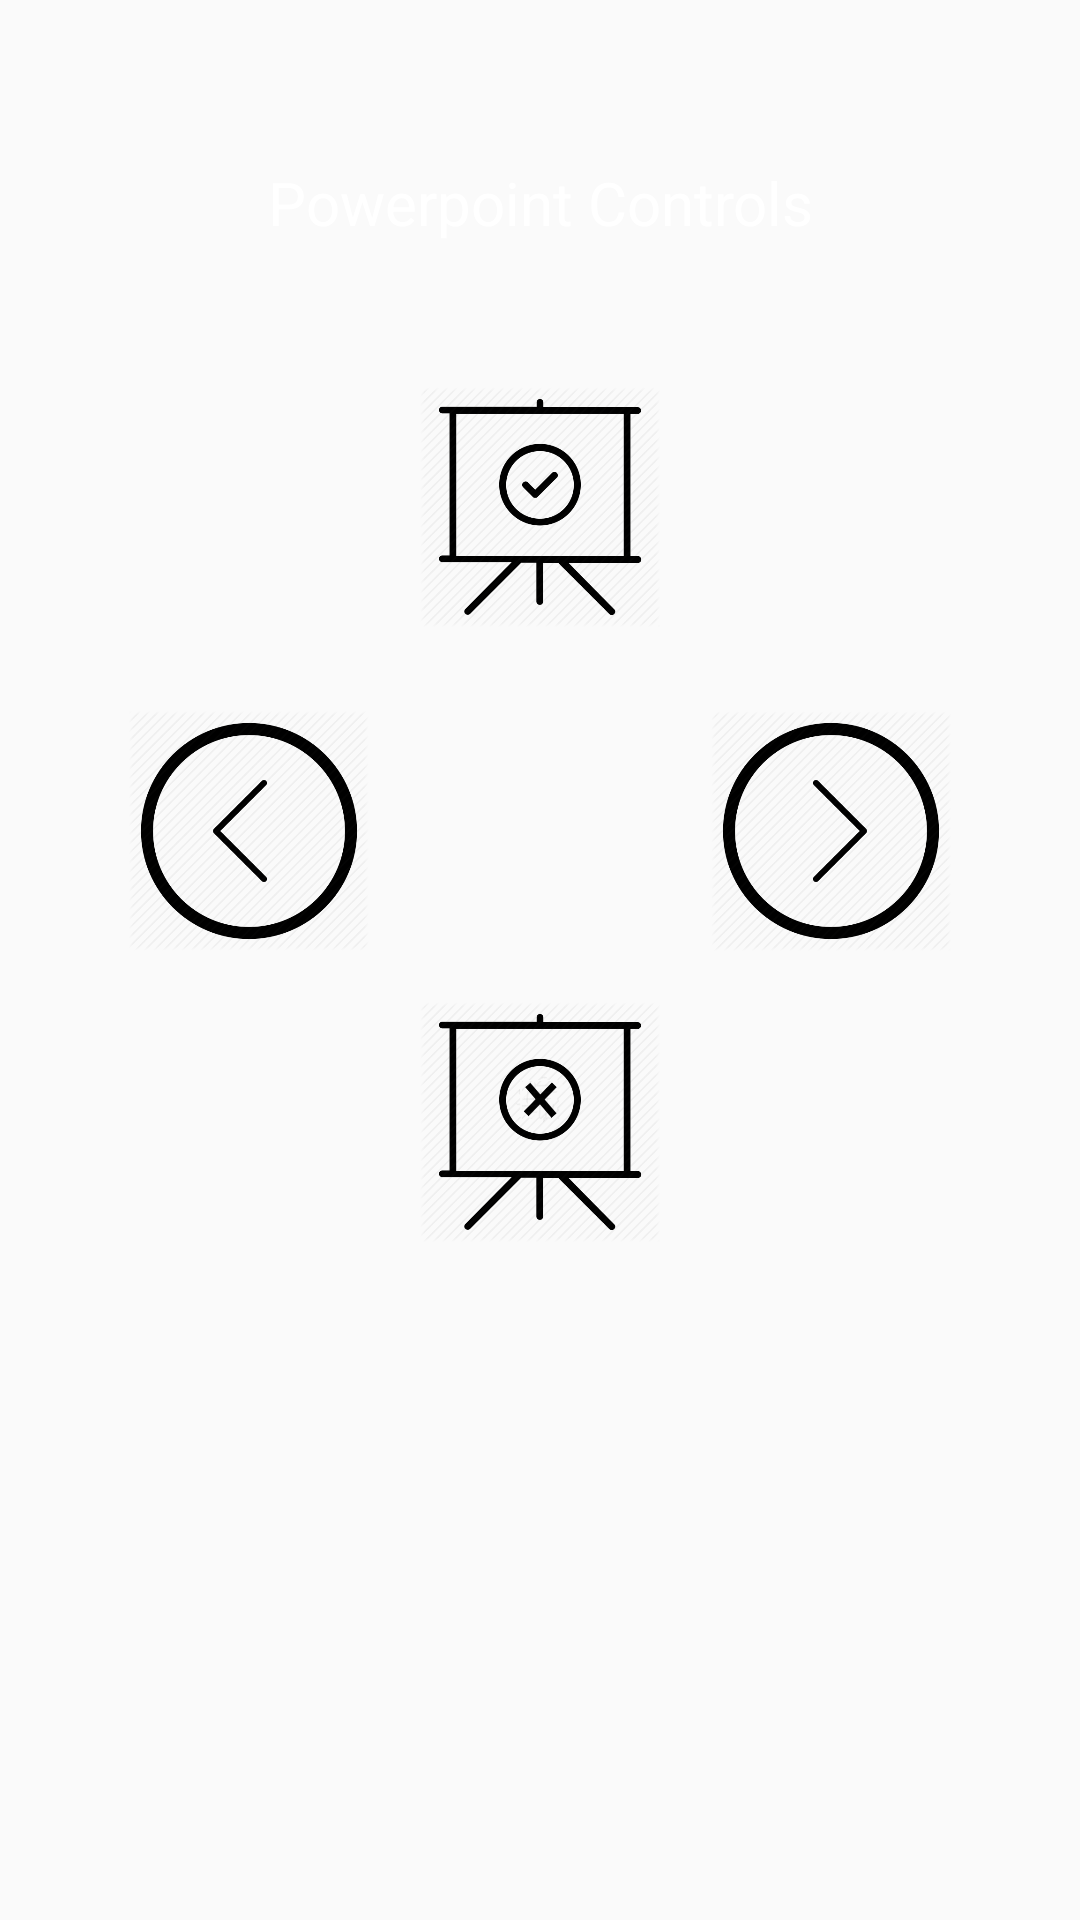

Screen size 1080w x 1920h. Icon name, then its center in pixels as point (x, y):
end: point (540, 1122)
next slide: point (831, 831)
prev slide: point (249, 831)
start: point (540, 507)
